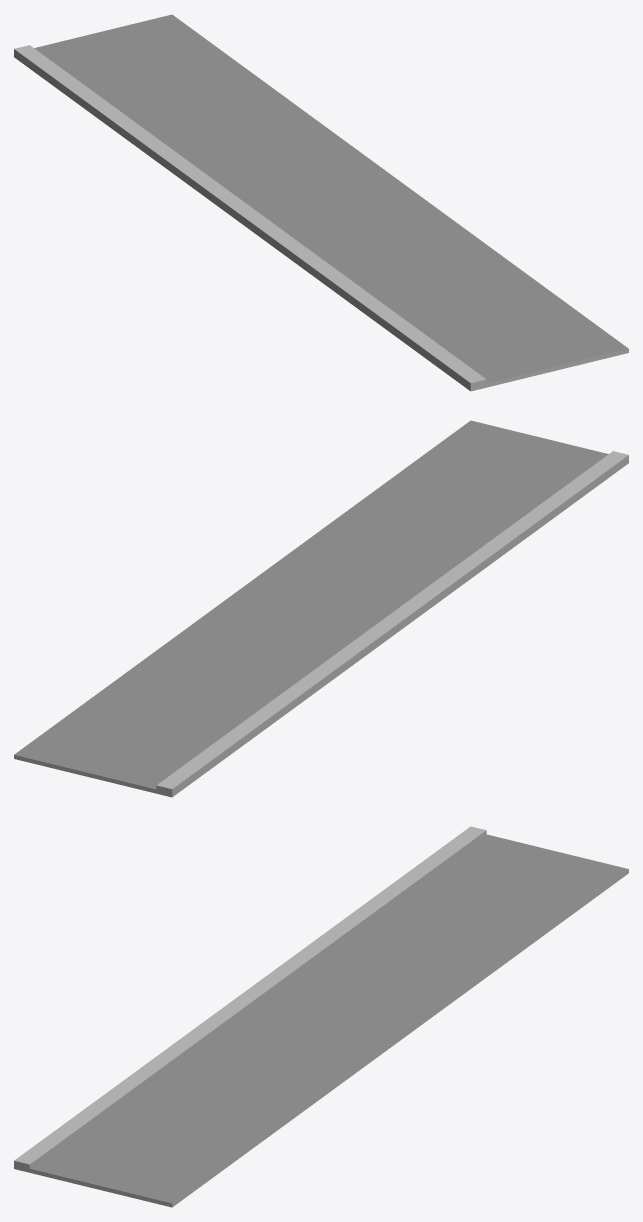
The model's file is sidewalk_01.fbx.
The picture shows the model from 3 angles, top to bottom: view 1: azimuth 30°, elevation 25°; view 2: azimuth 150°, elevation 25°; view 3: azimuth 330°, elevation 25°; orthographic projection.
Parts seen in each view (by area): view 1: sidewalk_01; view 2: sidewalk_01; view 3: sidewalk_01.
Boxes of the visible parts, bbox=[...] form: sidewalk_01: bbox=[14, 14, 628, 391]; sidewalk_01: bbox=[14, 420, 628, 797]; sidewalk_01: bbox=[14, 826, 628, 1207].
Size of the model in its own units: 4 by 0.2 by 20.
